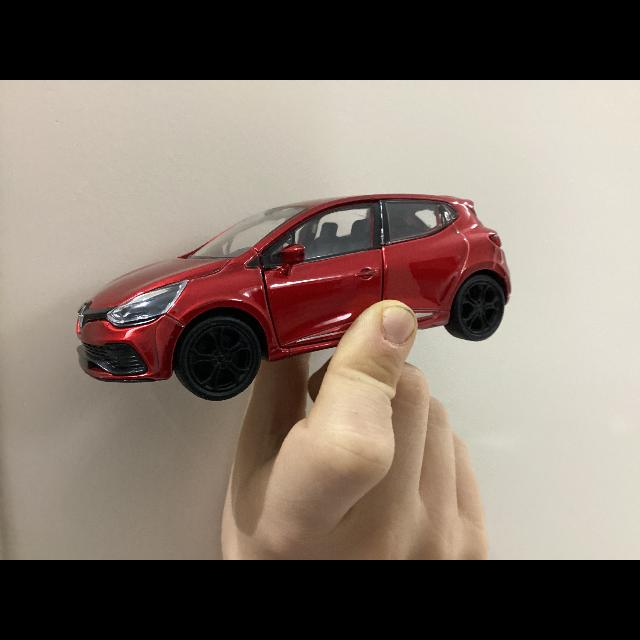Dogru_Jant: (191, 327, 249, 387), (460, 281, 502, 333)
